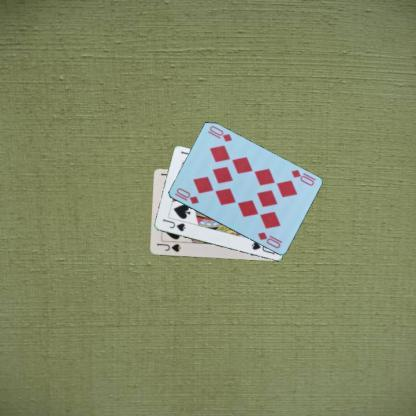10d: (172, 186, 200, 206), (288, 167, 315, 187)
Js: (160, 216, 187, 233), (154, 240, 182, 252)
